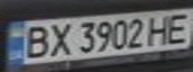0: (112, 17, 133, 51)
2: (127, 15, 151, 48)
3: (75, 19, 96, 54)
9: (93, 18, 115, 52)
B: (18, 22, 54, 60)
E: (163, 10, 193, 44)
H: (145, 12, 175, 46)
X: (45, 20, 75, 57)
